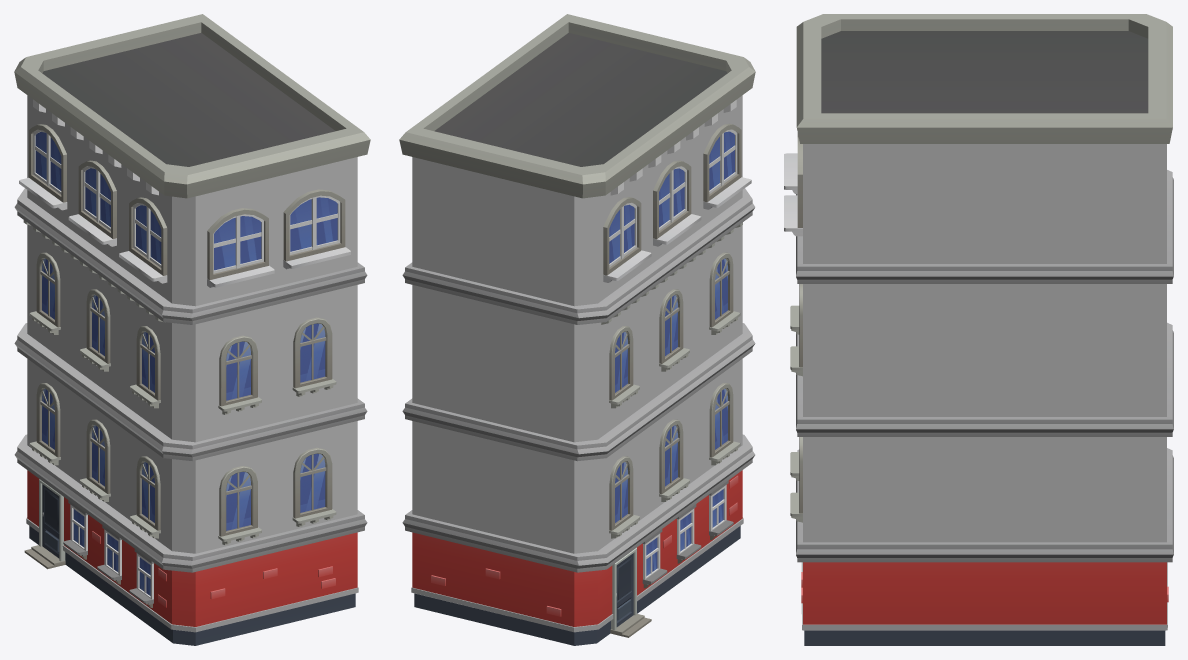
File: Building_18_2_N.fbx
3 views of the same model, side by side, from view 1: azimuth 30°, elevation 25°; view 2: azimuth 150°, elevation 25°; view 3: azimuth 270°, elevation 25° (orthographic). The views are drawn at different scales.
Visible parts, largest first — view 1: Building_18_2_N; view 2: Building_18_2_N; view 3: Building_18_2_N.
Boxes of the visible parts, x1=… form: Building_18_2_N: x1=14, y1=14, x2=370, y2=645; Building_18_2_N: x1=399, y1=14, x2=755, y2=645; Building_18_2_N: x1=784, y1=14, x2=1173, y2=645.
Bounding box in the file's own units: 719 × 1594 × 1059.
